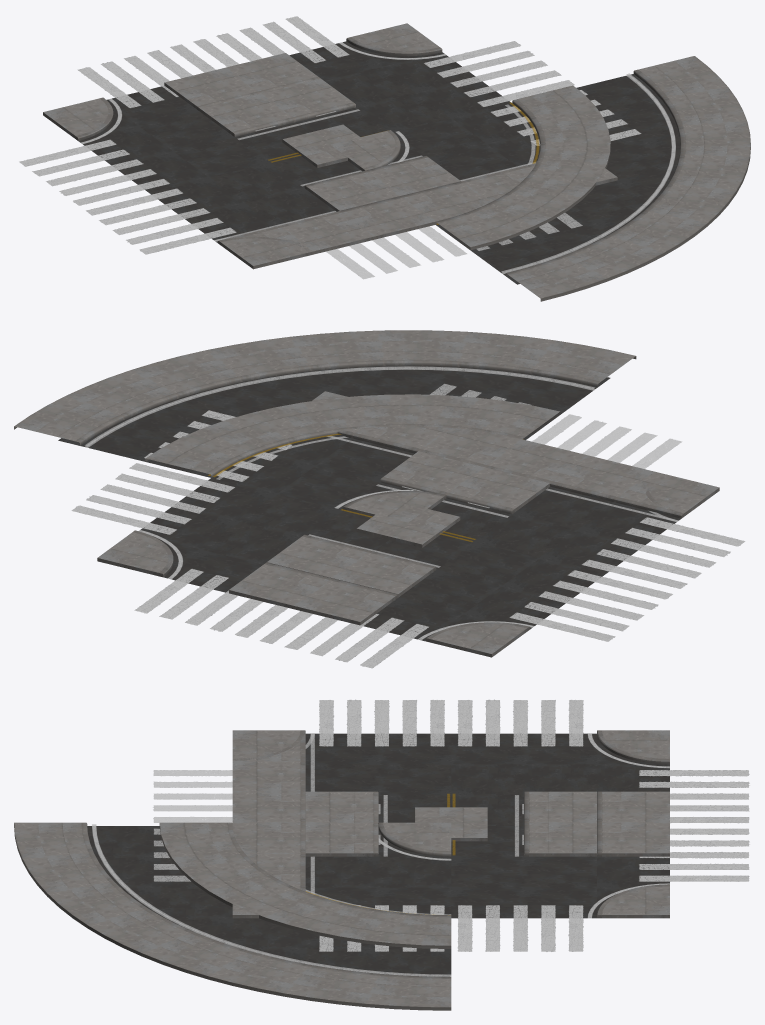
Rendered from streets.glb.
3 renders of one model, top to bottom at view 1: azimuth 30°, elevation 25°; view 2: azimuth 150°, elevation 25°; view 3: azimuth 270°, elevation 25°, orthographic. The views are drawn at different scales.
Visible parts, largest first — view 1: Street_4WayIntersection.001, Street_TIntersection.001, Street_Curve_4LaneShort.001, Street_Curve_2Lane.001, Street_2Lane.001, Street_4Lane.001, Sidewalk_NoCurb_3m.001; view 2: Street_4WayIntersection.001, Street_TIntersection.001, Street_Curve_4LaneShort.001, Street_Curve_2Lane.001, Street_2Lane.001, Street_4Lane.001, Sidewalk_NoCurb_3m.001; view 3: Street_TIntersection.001, Street_4WayIntersection.001, Street_Curve_4LaneShort.001, Street_Curve_2Lane.001, Street_2Lane.001, Street_4Lane.001, Sidewalk_NoCurb_3m.001.
Part boxes in pixels (x1,y1,x2,y2): Street_4WayIntersection.001: (20,16,641,279); Street_TIntersection.001: (19,16,640,269); Street_Curve_4LaneShort.001: (348,56,750,301); Street_Curve_2Lane.001: (331,85,610,250); Street_2Lane.001: (199,78,460,211); Street_4Lane.001: (164,53,489,239); Sidewalk_NoCurb_3m.001: (282,124,360,167); Street_4WayIntersection.001: (72,383,744,667); Street_TIntersection.001: (72,392,744,668); Street_Curve_4LaneShort.001: (14,330,636,516); Street_Curve_2Lane.001: (145,394,560,522); Street_2Lane.001: (267,451,549,597); Street_4Lane.001: (229,428,587,625); Sidewalk_NoCurb_3m.001: (356,509,460,547); Street_TIntersection.001: (232,700,748,951); Street_4WayIntersection.001: (153,700,749,951); Street_Curve_4LaneShort.001: (14,822,451,1010); Street_Curve_2Lane.001: (159,822,451,948); Street_2Lane.001: (305,791,596,856); Street_4Lane.001: (232,791,669,856); Sidewalk_NoCurb_3m.001: (415,807,487,841).
Size of the model in its own units: 30.33 by 0.1502 by 30.33.
Materials: 3 (3 with a texture image).
